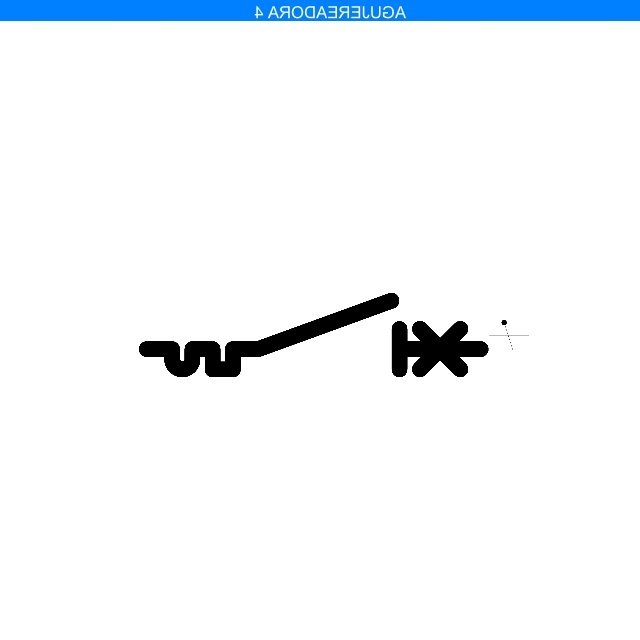interruptor_termomagnetico: (138, 292, 489, 378)
